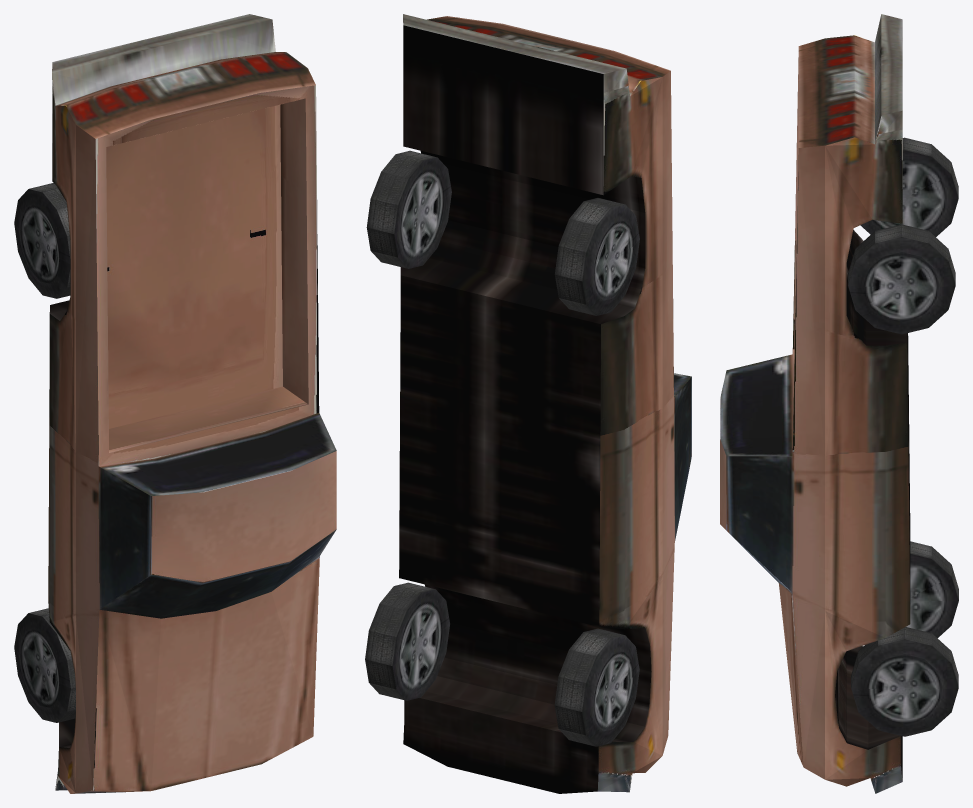
File: carpack_truck_wtf.obj
3 renders of one model, left to right at view 1: azimuth 30°, elevation 25°; view 2: azimuth 150°, elevation 25°; view 3: azimuth 270°, elevation 25°, orthographic. The views are drawn at different scales.
Parts seen in each view (by area): view 1: group2; view 2: group2; view 3: group2.
Part boxes in pixels (x1,y1,x2,y2): group2: [14, 14, 336, 793]; group2: [365, 14, 691, 793]; group2: [720, 14, 958, 793].
Bounding box in the file's own units: 220 × 660 × 207.
